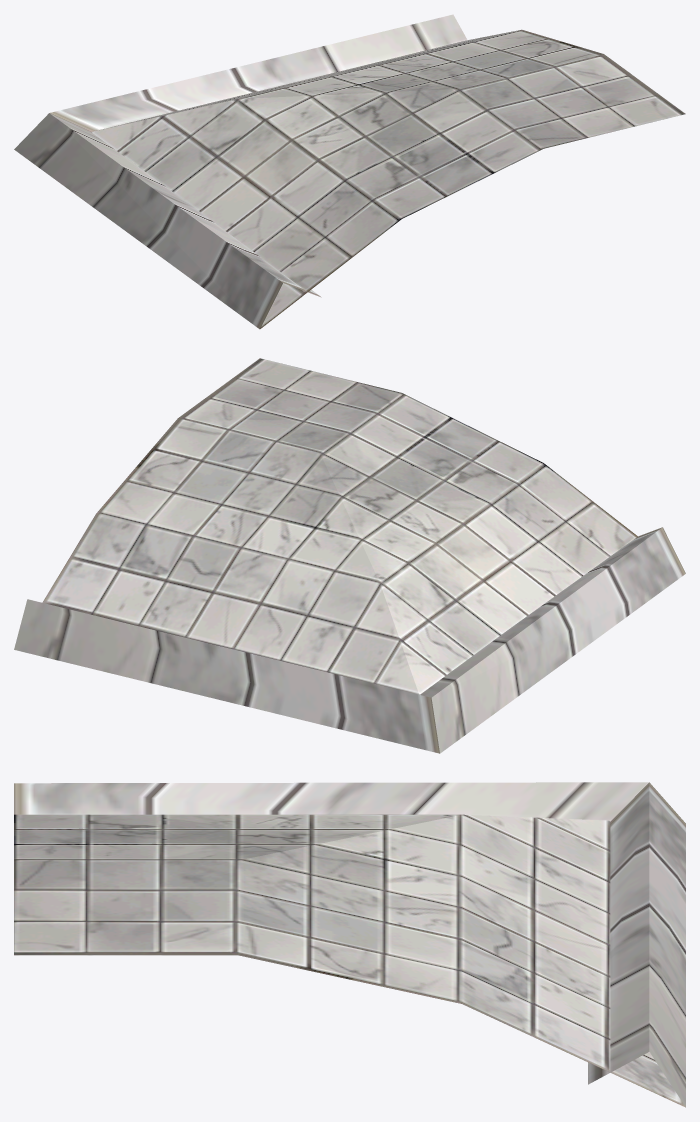
File: Eckverschluß_Park_2282.glb
3 renders of one model, top to bottom at view 1: azimuth 30°, elevation 25°; view 2: azimuth 150°, elevation 25°; view 3: azimuth 270°, elevation 25°, orthographic. The views are drawn at different scales.
Parts seen in each view (by area): view 1: pPlaneShape9, pCylinderShape3, pCylinderShape4; view 2: pPlaneShape9, pCylinderShape4, pCylinderShape3; view 3: pPlaneShape9, pCylinderShape4, pCylinderShape3.
Part boxes in pixels (x1,y1,x2,y2): pPlaneShape9: (91,29,685,328); pCylinderShape3: (14,113,321,329); pCylinderShape4: (49,14,467,131); pPlaneShape9: (42,358,637,694); pCylinderShape4: (14,599,439,753); pCylinderShape3: (420,527,685,753); pPlaneShape9: (14,814,685,1107); pCylinderShape4: (588,782,685,1106); pCylinderShape3: (14,782,648,821).
Size of the model in its own units: 0.25 by 0.0625 by 0.25.
Materials: 3 (3 with a texture image).
